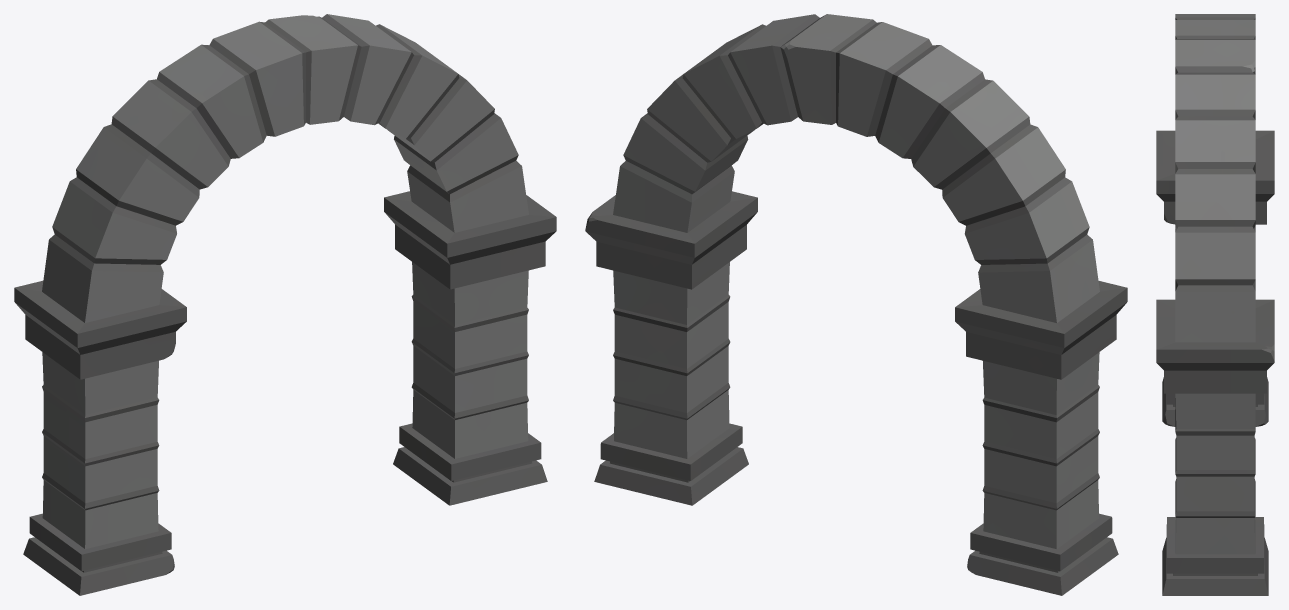
The model's file is Arch_2.fbx.
3 views of the same model, side by side, from view 1: azimuth 30°, elevation 25°; view 2: azimuth 150°, elevation 25°; view 3: azimuth 270°, elevation 25° (orthographic). The views are drawn at different scales.
Visible parts, largest first — view 1: Arch 2; view 2: Arch 2; view 3: Arch 2.
Part boxes in pixels (left/top/right/bottom): Arch 2: left=14, top=14, right=556, bottom=595; Arch 2: left=585, top=14, right=1127, bottom=595; Arch 2: left=1156, top=14, right=1274, bottom=595.
Bounding box in the file's own units: 252 × 242 × 57.57.
